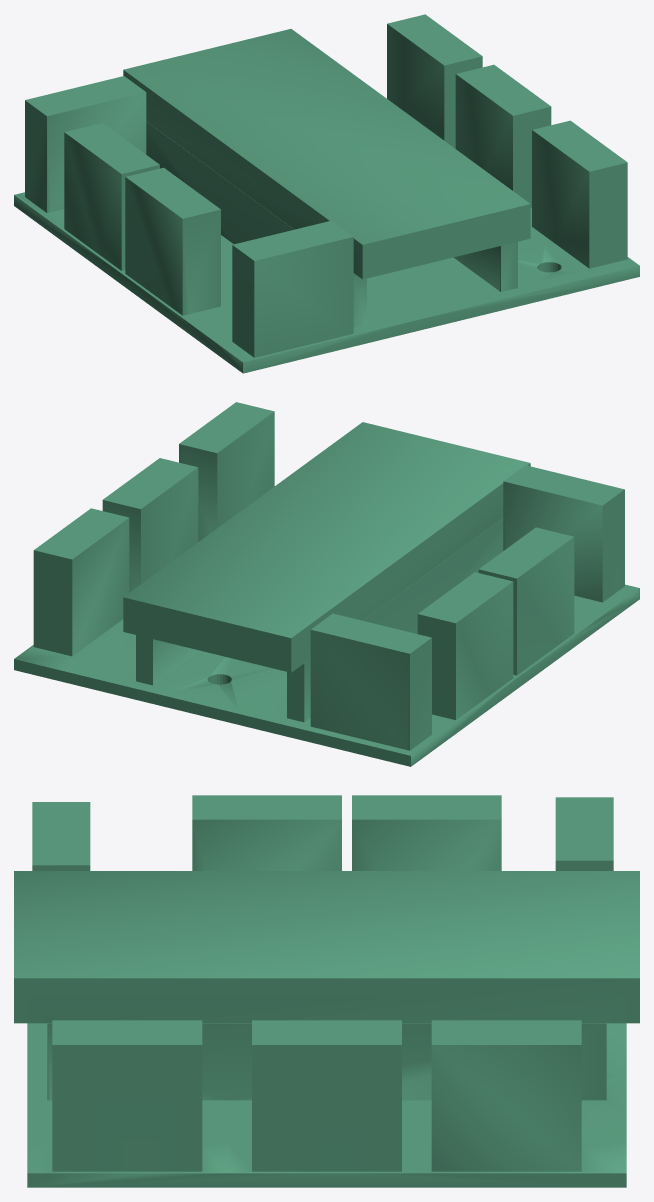
File: pcb2_ctrl_envolvente.glb
3 renders of one model, top to bottom at view 1: azimuth 30°, elevation 25°; view 2: azimuth 150°, elevation 25°; view 3: azimuth 270°, elevation 25°, orthographic. The views are drawn at different scales.
Visible parts, largest first — view 1: PCB2_CTRL_envolvente; view 2: PCB2_CTRL_envolvente; view 3: PCB2_CTRL_envolvente.
Boxes of the visible parts, x1,y1,x2,y2 form: PCB2_CTRL_envolvente: (14,14,639,373); PCB2_CTRL_envolvente: (14,402,639,766); PCB2_CTRL_envolvente: (14,795,639,1187).
Bounding box in the file's own units: 0.06 × 0.0156 × 0.0627.
